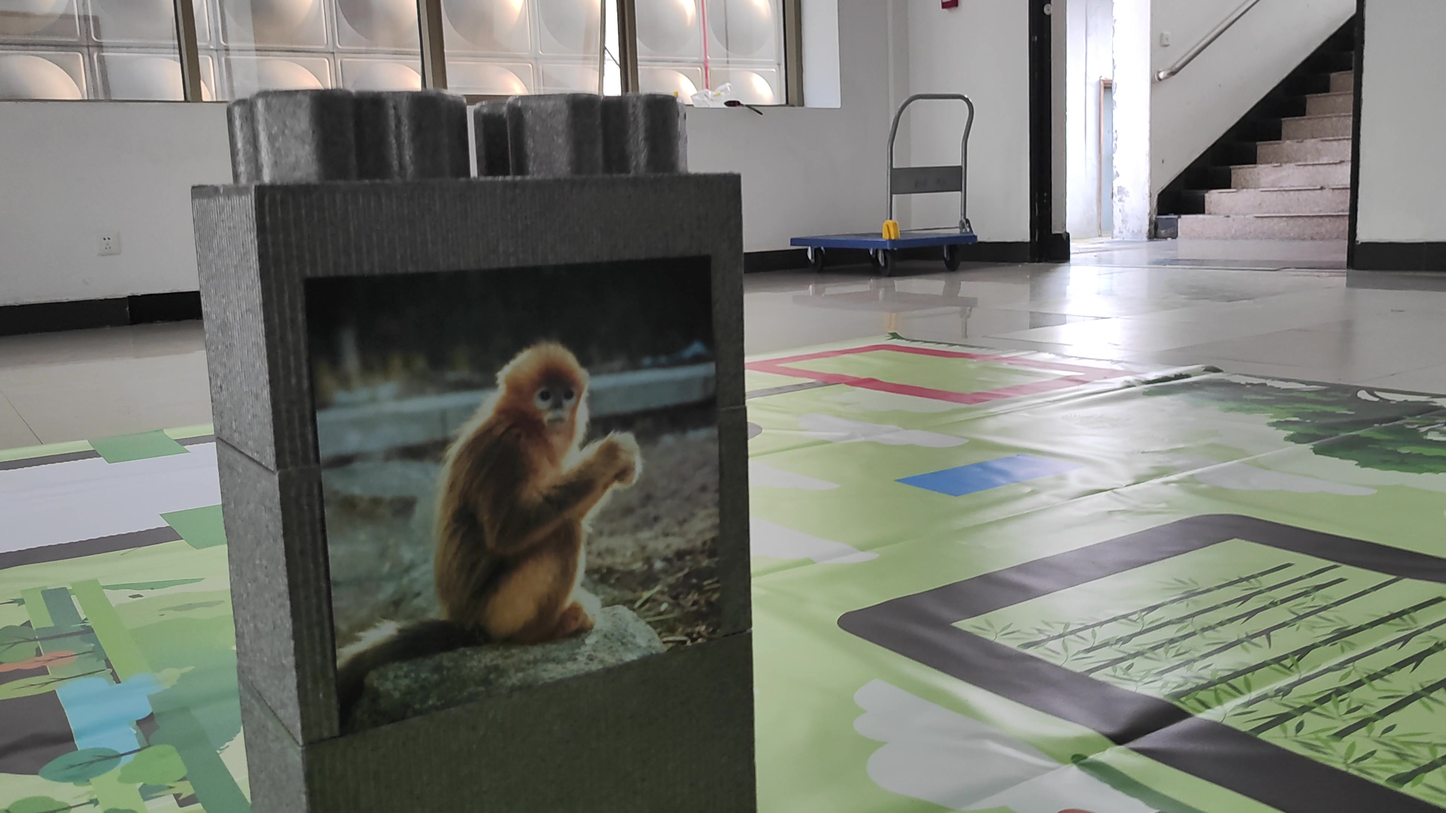monkey: (326, 328, 650, 676)
